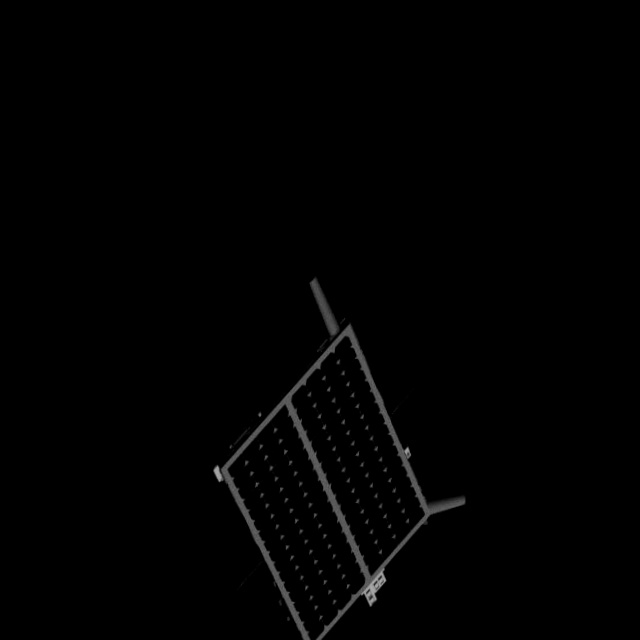medium_debris: (201, 273, 488, 640)
